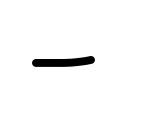minus: (30, 57, 95, 70)
